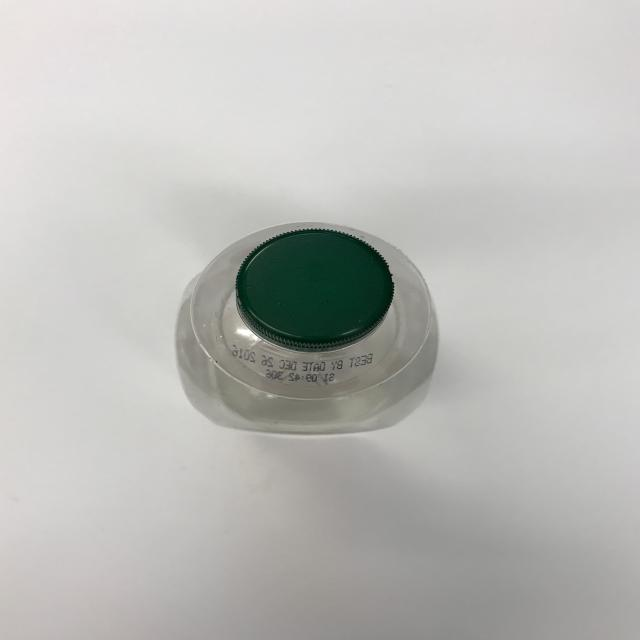plastic: (175, 220, 440, 435)
